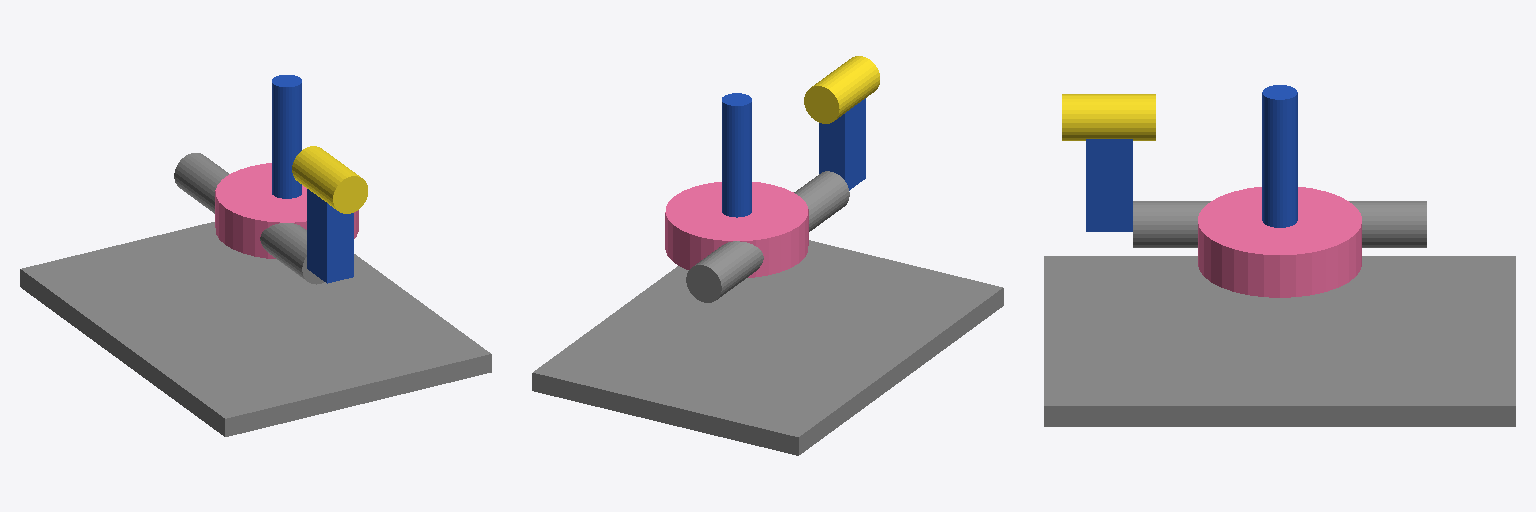
URDF robot description (cam_follower_mechanism):
<?xml version="1.0"?>
<robot name="cam_follower_mechanism">

  <material name="pink">
    <color rgba="1 0.5 0.7 1"/>
  </material>
  <material name="blue">
    <color rgba="0.2 0.4 0.8 1"/>
  </material>
  <material name="light_blue_roller">
    <color rgba="0.5 0.7 1 1"/>
  </material>
  <material name="yellow_handle">
    <color rgba="1 0.9 0.2 1"/>
  </material>
  <material name="grey_metal">
    <color rgba="0.6 0.6 0.6 1"/>
  </material>

  <link name="base_link">
    <visual>
      <geometry>
        <box size="0.3 0.4 0.02"/> </geometry>
      <origin xyz="0 0 -0.01" rpy="0 0 0"/>
      <material name="grey_metal"/>
    </visual>
    <collision>
      <geometry>
        <box size="0.3 0.4 0.02"/>
      </geometry>
      <origin xyz="0 0 -0.01" rpy="0 0 0"/>
    </collision>
    <inertial>
      <mass value="5.0"/>
      <origin xyz="0 0 -0.01"/>
      <inertia ixx="0.1" ixy="0" ixz="0" iyy="0.1" iyz="0" izz="0.1"/>
    </inertial>
  </link>

  <link name="cam_assembly_link">
    <inertial>
      <mass value="1.0"/>
      <origin xyz="0 0 0"/> <inertia ixx="0.01" ixy="0" ixz="0" iyy="0.01" iyz="0" izz="0.01"/>
    </inertial>

    <visual name="shaft">
      <origin xyz="0 0 0" rpy="0 0 0"/> <origin xyz="0 0 0" rpy="1.570796325 0 0"/> <geometry>
        <cylinder radius="0.02" length="0.25"/> </geometry>
      <material name="grey_metal"/>
    </visual>
    <collision name="shaft_collision">
      <origin xyz="0 0 0" rpy="1.570796325 0 0"/>
      <geometry>
        <cylinder radius="0.02" length="0.25"/>
      </geometry>
    </collision>

    <visual name="cam_body">
      <origin xyz="0.035 0 0" rpy="0 0 0"/> <geometry>
        <cylinder radius="0.07" length="0.04"/> </geometry>
      <material name="pink"/>
    </visual>
    <collision name="cam_body_collision">
      <origin xyz="0.035 0 0" rpy="0 0 0"/>
      <geometry>
        <cylinder radius="0.07" length="0.04"/>
      </geometry>
    </collision>

    <visual name="crank_arm">
      <origin xyz="0 -0.145 0.05" rpy="0 0 0"/> <geometry>
        <box size="0.03 0.04 0.1"/>
      </geometry>
      <material name="blue"/>
    </visual>
    <collision name="crank_arm_collision">
      <origin xyz="0 -0.145 0.05" rpy="0 0 0"/>
      <geometry>
        <box size="0.03 0.04 0.1"/>
      </geometry>
    </collision>

    <visual name="crank_handle">
      <origin xyz="0 -0.145 0.1" rpy="1.570796325 0 0"/> <geometry>
        <cylinder radius="0.02" length="0.08"/> </geometry>
      <material name="yellow_handle"/>
    </visual>
    <collision name="crank_handle_collision">
      <origin xyz="0 -0.145 0.1" rpy="1.570796325 0 0"/>
      <geometry>
        <cylinder radius="0.02" length="0.08"/>
      </geometry>
    </collision>
  </link>

  <link name="follower_rod_link">
    <inertial>
      <mass value="0.18"/>
      <origin xyz="0 0 0.075"/> <inertia ixx="0.001" ixy="0" ixz="0" iyy="0.001" iyz="0" izz="0.001"/>
    </inertial>
    <visual name="rod">
      <origin xyz="0 0 0.075" rpy="0 0 0"/> <geometry>
        <cylinder radius="0.015" length="0.15"/> </geometry>
      <material name="blue"/>
    </visual>
    <collision name="rod_collision">
      <origin xyz="0 0 0.075" rpy="0 0 0"/>
      <geometry>
        <cylinder radius="0.015" length="0.15"/>
      </geometry>
    </collision>
  </link>

  <link name="follower_roller_link">
    <inertial>
      <mass value="0.05"/>
      <origin xyz="0 0 0"/> <inertia ixx="0.0001" ixy="0" ixz="0" iyy="0.0001" iyz="0" izz="0.0001"/>
    </inertial>
    <visual name="roller">
      <origin xyz="0 0 0" rpy="0 1.570796325 0"/> <geometry>
        <cylinder radius="0.025" length="0.04"/> </geometry>
      <material name="light_blue_roller"/>
    </visual>
    <collision name="roller_collision">
      <origin xyz="0 0 0" rpy="0 1.570796325 0"/>
      <geometry>
        <cylinder radius="0.025" length="0.04"/>
      </geometry>
    </collision>
  </link>

  <joint name="cam_joint" type="revolute">
    <parent link="base_link"/>
    <child link="cam_assembly_link"/>
    <origin xyz="0 0 0.1" rpy="0 0 0"/> <axis xyz="0 1 0"/> <limit effort="100" velocity="10" lower="-6.2831853" upper="6.2831853"/> <dynamics damping="0.1" friction="0.5"/>
  </joint>

  <joint name="follower_rod_joint" type="prismatic">
    <parent link="base_link"/>
    <child link="follower_rod_link"/>
    <origin xyz="0.035 0 0.09" rpy="0 0 0"/> <axis xyz="0 0 1"/> <limit effort="100" velocity="1.0" lower="0.0" upper="0.07"/>
    <dynamics damping="0.2" friction="0.1"/>
  </joint>

  <joint name="follower_roller_joint" type="continuous">
    <parent link="follower_rod_link"/>
    <child link="follower_roller_link"/>
    <origin xyz="0 0 0" rpy="0 0 0"/>
    <axis xyz="1 0 0"/> <dynamics damping="0.01" friction="0.01"/>
  </joint>

</robot>

--- Facts derived from the render (not from the file) ---
3 views of the same robot in one strip: view 1: azimuth 30°, elevation 25°; view 2: azimuth 150°, elevation 25°; view 3: azimuth 270°, elevation 25° (orthographic).
Model cam_follower_mechanism with 4 links and 3 joints (1 revolute, 1 continuous, 1 prismatic), rooted at base_link, posed every joint at zero.
Links seen in each view (by area): view 1: base_link, cam_assembly_link, follower_rod_link; view 2: base_link, cam_assembly_link, follower_rod_link; view 3: base_link, cam_assembly_link, follower_rod_link.
Link boxes in pixels (x1,y1,x2,y2): base_link: [20, 222, 491, 436]; cam_assembly_link: [174, 146, 367, 284]; follower_rod_link: [272, 75, 301, 198]; base_link: [532, 240, 1003, 455]; cam_assembly_link: [665, 56, 879, 302]; follower_rod_link: [722, 93, 751, 217]; base_link: [1044, 256, 1515, 426]; cam_assembly_link: [1062, 94, 1426, 297]; follower_rod_link: [1262, 85, 1297, 227].
Size in the robot's own frame: 0.3 by 0.4 by 0.26 metres.
Geometry: primitives only (box / cylinder / sphere), no mesh files.
